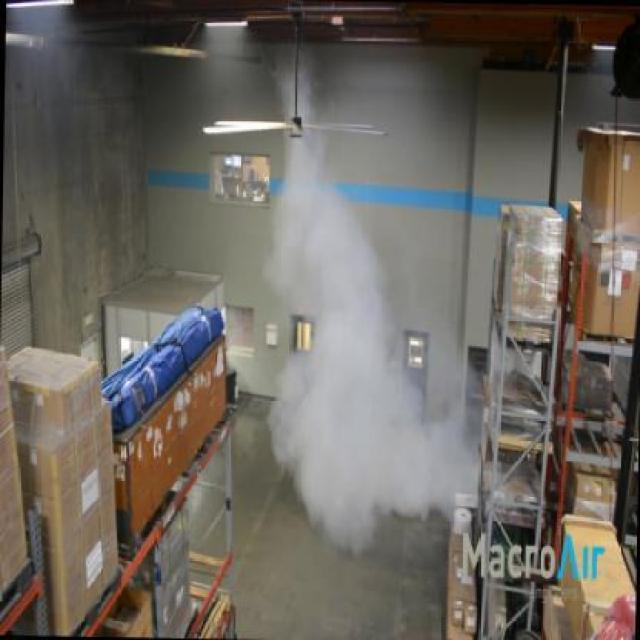fire: (252, 165, 442, 546)
